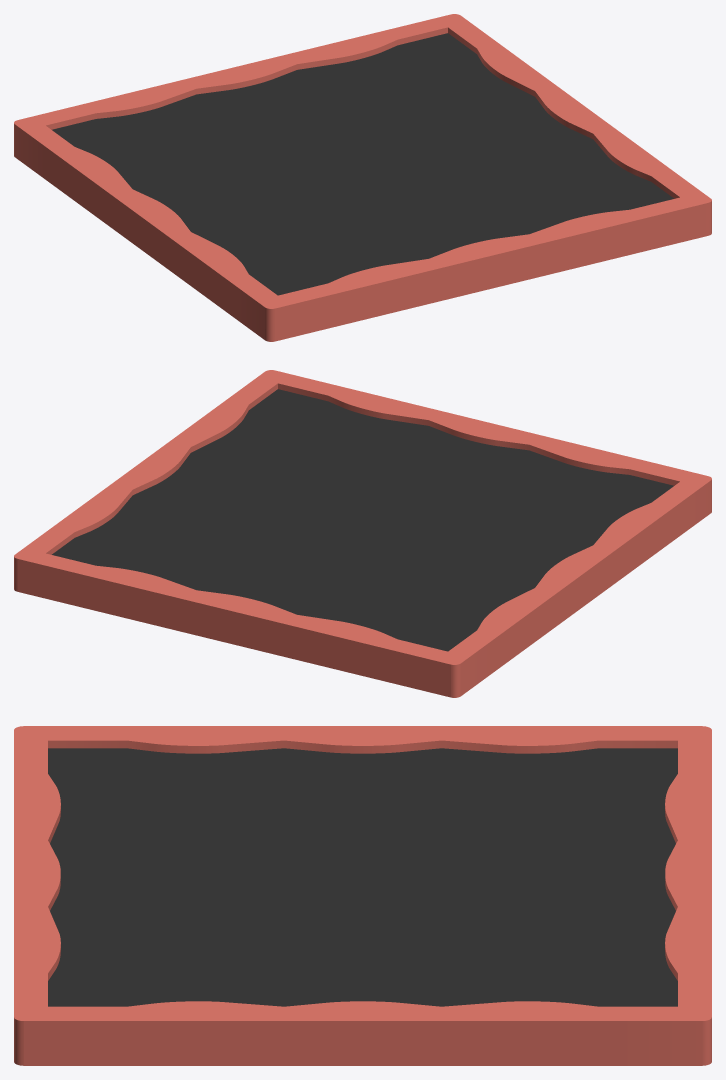
The model's file is Red.fbx.
The picture shows the model from 3 angles, top to bottom: view 1: azimuth 30°, elevation 25°; view 2: azimuth 150°, elevation 25°; view 3: azimuth 270°, elevation 25°; orthographic projection. The views are drawn at different scales.
Parts seen in each view (by area): view 1: t1.001, Cube.027, Cube.028, Cube.029, Cube.026; view 2: t1.001, Cube.029, Cube.028, Cube.027, Cube.026; view 3: t1.001, Cube.026, Cube.028, Cube.027, Cube.029.
Boxes of the visible parts, bbox=[...] form: t1.001: bbox=[52, 33, 673, 295]; Cube.027: bbox=[271, 197, 711, 341]; Cube.028: bbox=[14, 120, 277, 341]; Cube.029: bbox=[17, 14, 454, 129]; Cube.026: bbox=[448, 14, 710, 200]; t1.001: bbox=[52, 389, 673, 651]; Cube.029: bbox=[17, 553, 454, 697]; Cube.028: bbox=[448, 476, 711, 697]; Cube.027: bbox=[265, 370, 708, 485]; Cube.026: bbox=[14, 371, 277, 591]; t1.001: bbox=[48, 748, 677, 1006]; Cube.026: bbox=[21, 1001, 711, 1065]; Cube.028: bbox=[14, 726, 711, 753]; Cube.027: bbox=[14, 729, 60, 1065]; Cube.029: bbox=[665, 729, 711, 1017].
Size of the model in its own units: 355 by 25.13 by 355.
